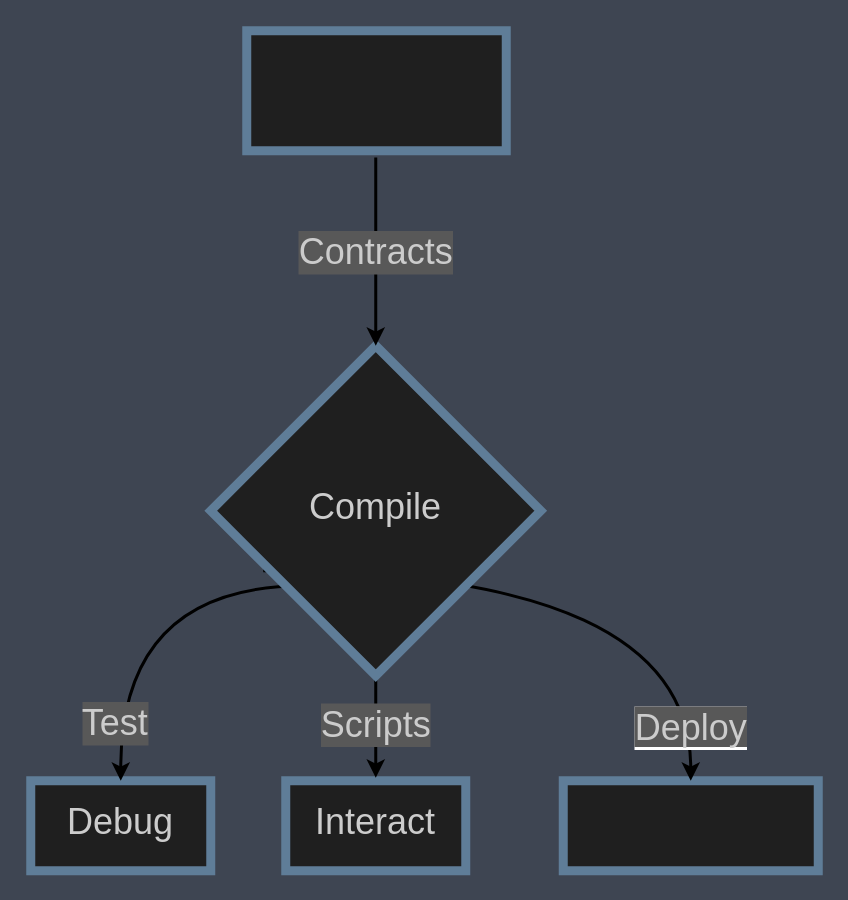
Some shapes in this 848 by 900 pixel diagram are drawn without their labels. Each missing label, with the box of its shape:
Blockchain: (558, 776, 822, 874)
Environment: (242, 26, 510, 154)
